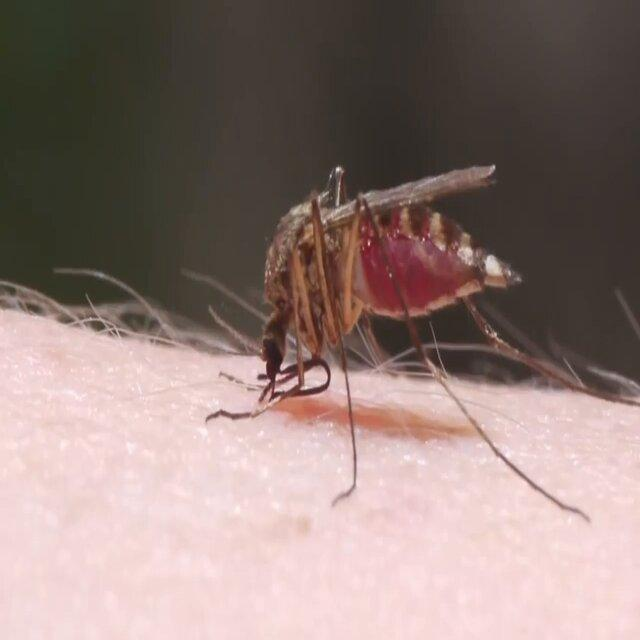mosquitos: (258, 165, 502, 389)
